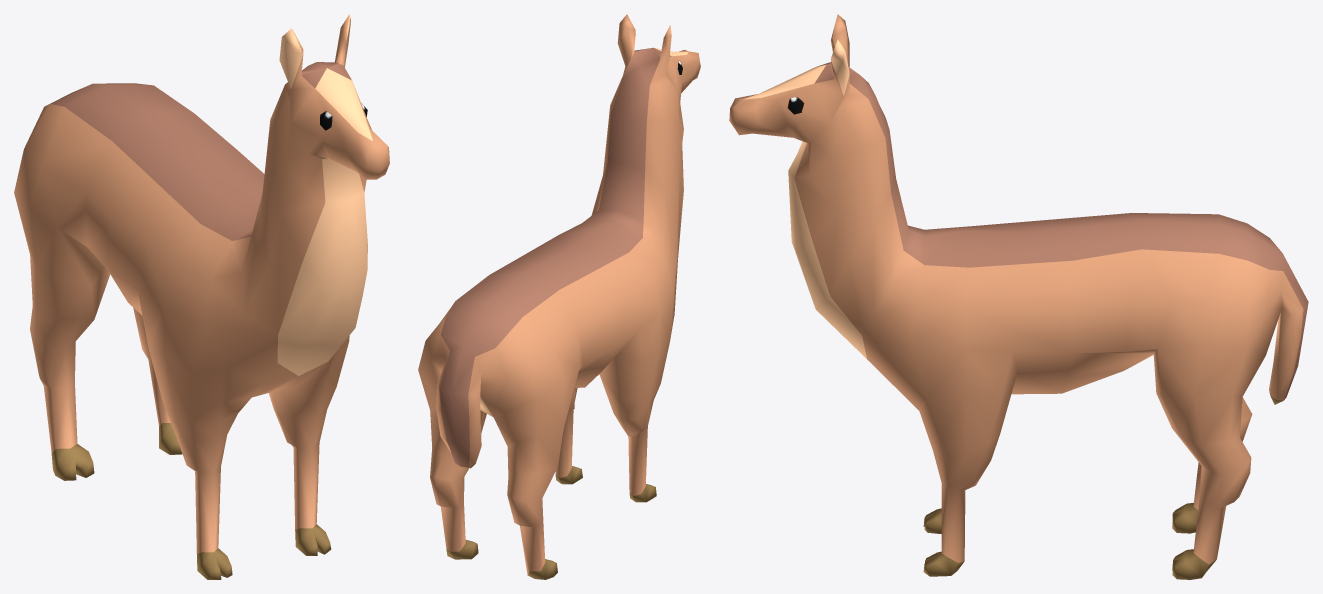
File: cc9bced6-a3fb-4f81-bd6b-4379a359d36b.glb
3 renders of one model, left to right at view 1: azimuth 30°, elevation 25°; view 2: azimuth 150°, elevation 25°; view 3: azimuth 270°, elevation 25°, orthographic. The views are drawn at different scales.
Visible parts, largest first — view 1: Llama; view 2: Llama; view 3: Llama.
Part boxes in pixels (box(x1,y1,x2,y2)): Llama: box(14, 14, 389, 579); Llama: box(418, 14, 700, 579); Llama: box(729, 14, 1308, 579).
Size of what is drawn, in the model's own units: 0.6856 by 2.14 by 2.15.
Materials: 1 (1 with a texture image).
